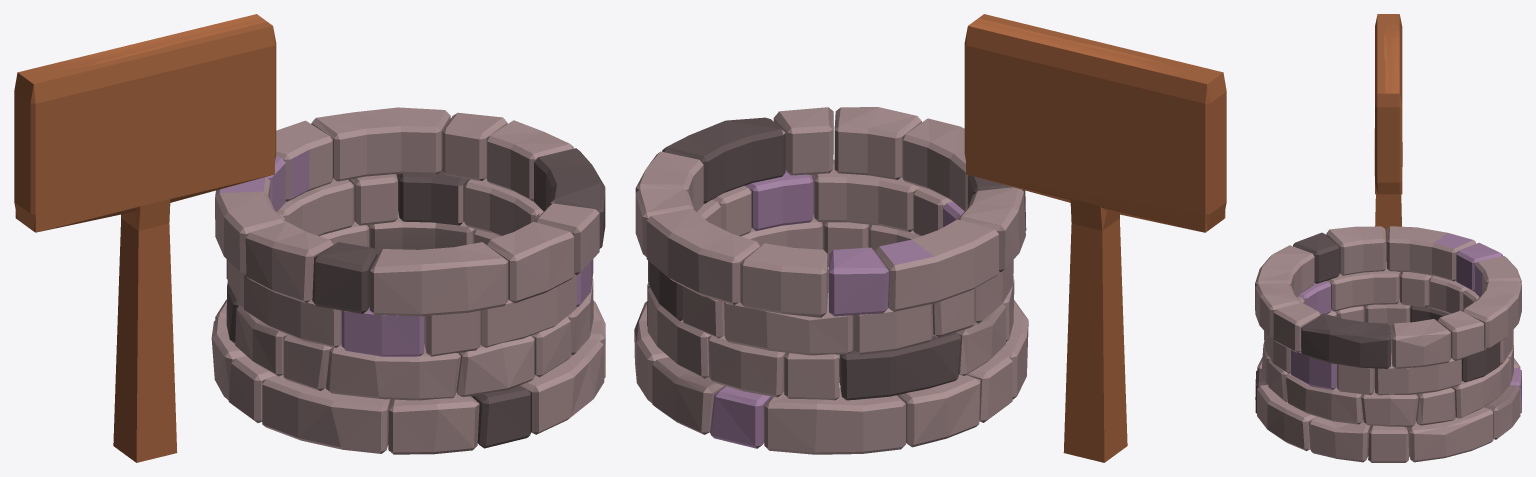
Rendered from startWell.obj.
3 views of the same model, side by side, from view 1: azimuth 30°, elevation 25°; view 2: azimuth 150°, elevation 25°; view 3: azimuth 270°, elevation 25° (orthographic). The views are drawn at different scales.
Parts seen in each view (by area): view 1: Cube.003, 立方体; view 2: Cube.003, 立方体; view 3: Cube.003, 立方体.
Boxes of the visible parts, bbox=[...] form: Cube.003: bbox=[211, 107, 605, 454]; 立方体: bbox=[14, 14, 276, 462]; Cube.003: bbox=[634, 107, 1028, 454]; 立方体: bbox=[964, 14, 1226, 462]; Cube.003: bbox=[1255, 226, 1521, 462]; 立方体: bbox=[1374, 14, 1402, 261].
Bounding box in the file's own units: 4.92 × 3.38 × 2.99.
2 materials, 2 textured.
